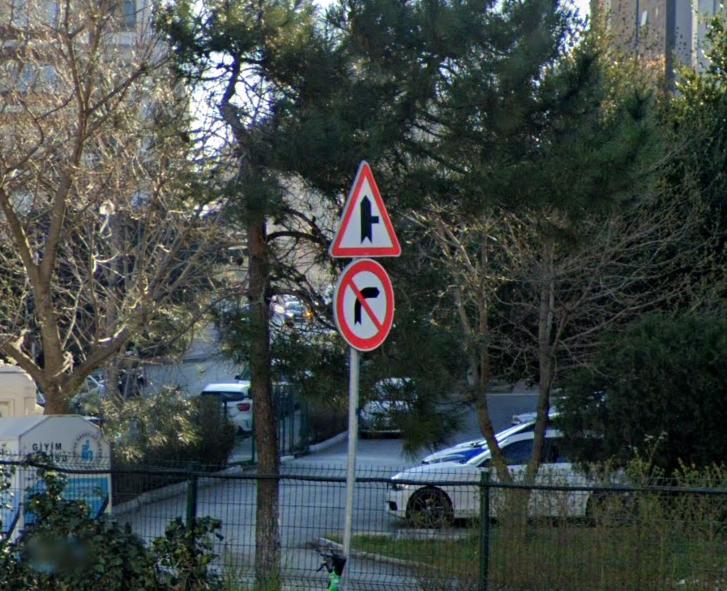rightturnsareforbidden: (334, 258, 397, 349)
